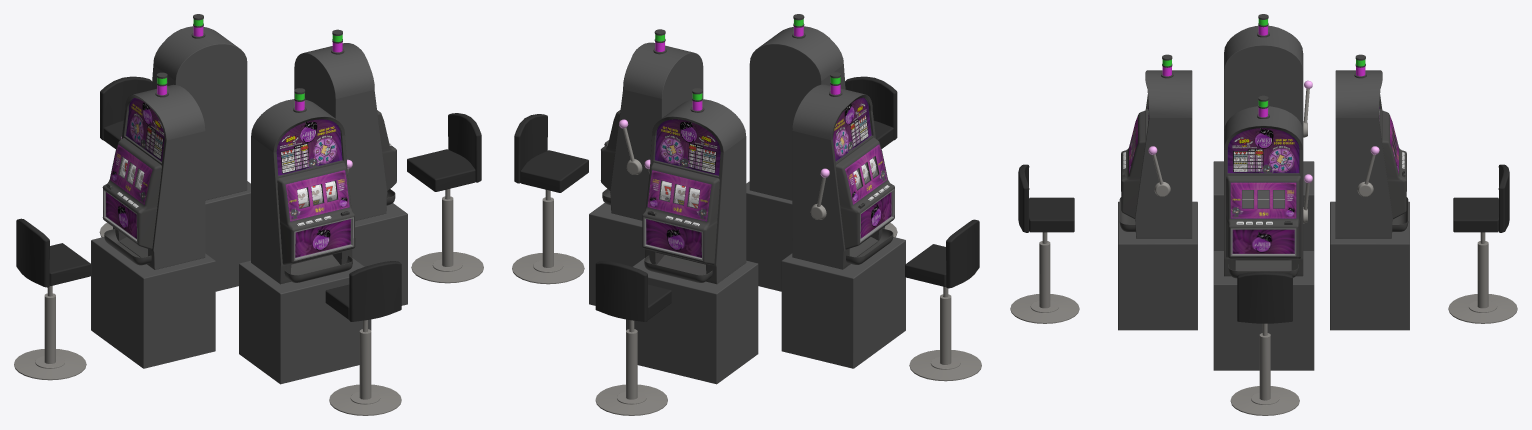
File: slot-machine.glb
3 renders of one model, left to right at view 1: azimuth 30°, elevation 25°; view 2: azimuth 150°, elevation 25°; view 3: azimuth 270°, elevation 25°, orthographic. The views are drawn at different scales.
Visible parts, largest first — view 1: Cabinet, Stool; view 2: Cabinet, Stool; view 3: Cabinet, Stool.
Part boxes in pixels (x1,y1,x2,y2): Cabinet: (14,14,407,415); Stool: (407,113,483,283); Cabinet: (589,14,981,415); Stool: (512,114,588,284); Cabinet: (1010,14,1517,370); Stool: (1230,271,1299,415).
Size of the model in its own units: 3.65 by 2 by 3.65.
Materials: 20 (7 with a texture image).
